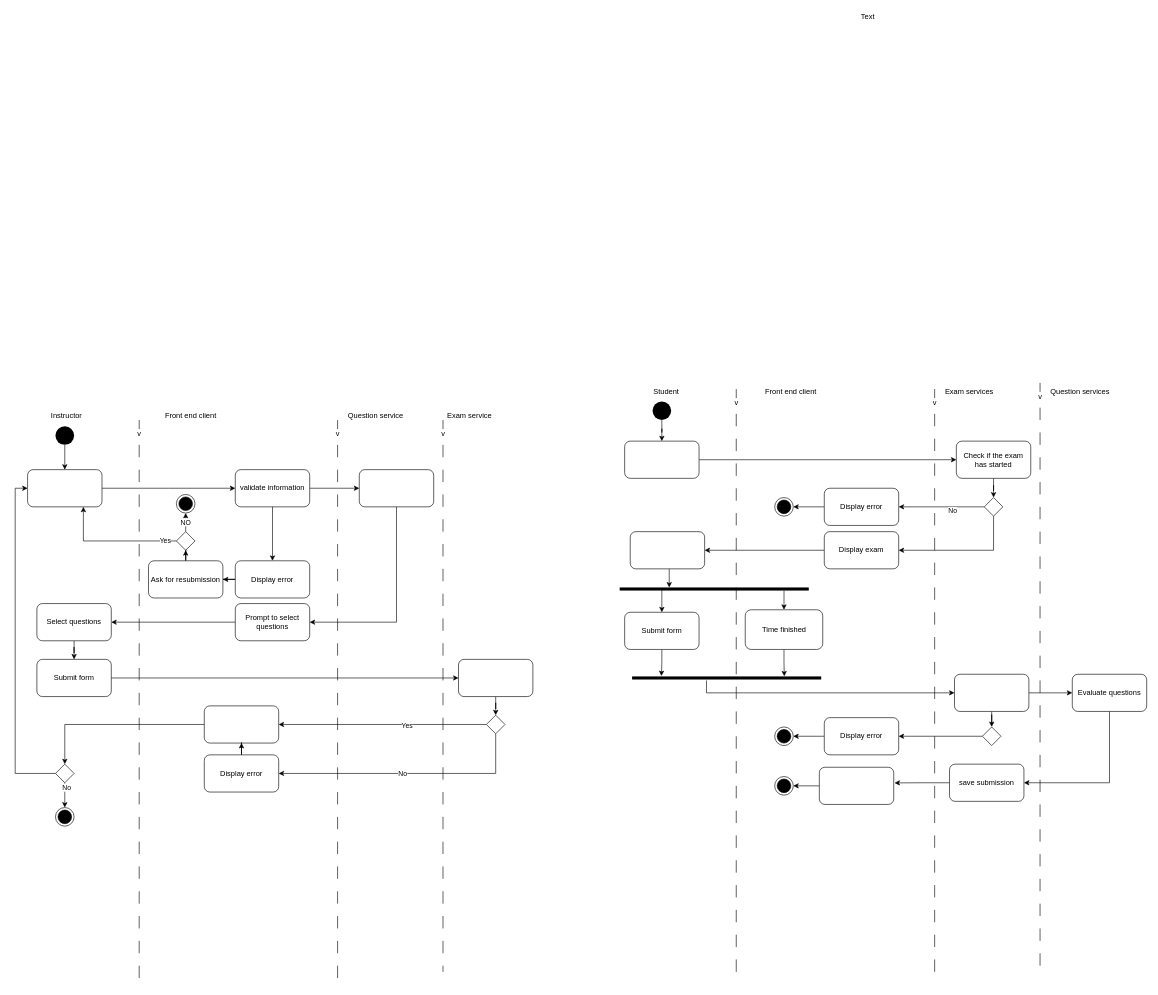
The diagram is 1158 pixels wide and 995 high, and some of its shapes have lost their labels. Each missing label, with the box of its shape:
Ask for another exam creation: (204, 705, 279, 743)
Check late submission: (954, 674, 1029, 711)
Display report: (819, 767, 894, 804)
Enter exam inforamtion: (27, 469, 102, 507)
Get Questions created by the instructor: (359, 469, 434, 507)
Seelct answers: (630, 531, 705, 569)
Select exam to do: (624, 441, 699, 478)
Vealidate exam: (458, 659, 533, 697)
